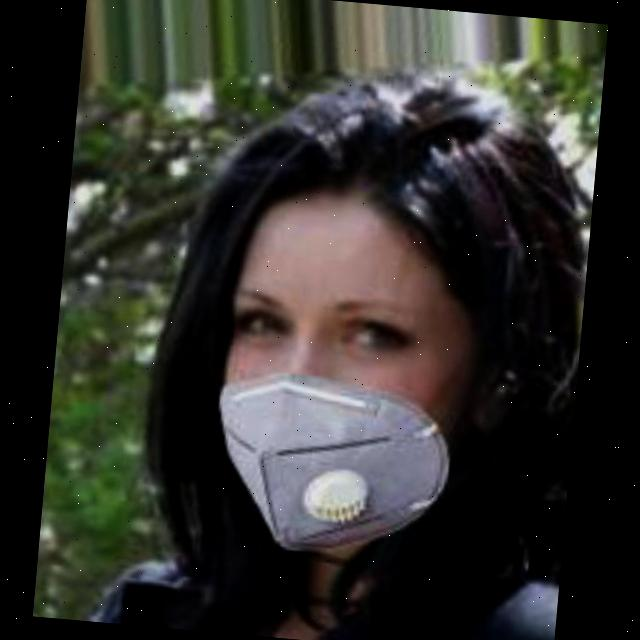suspicion: (167, 173, 478, 558)
